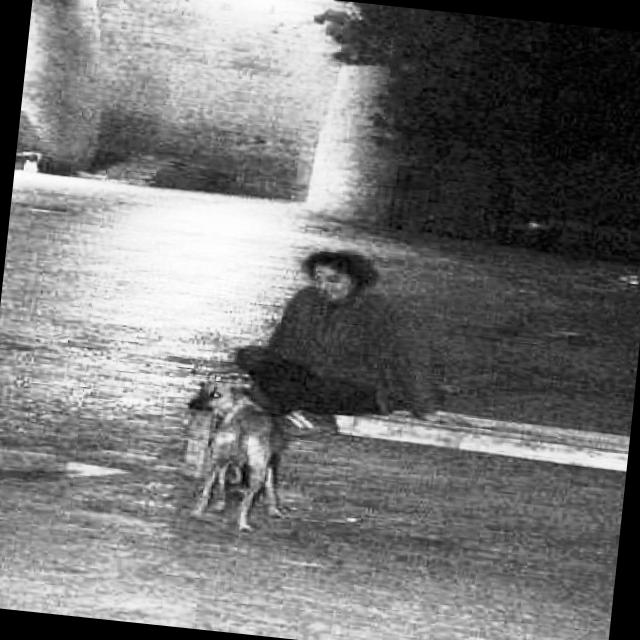Dog: (94, 342, 394, 572)
